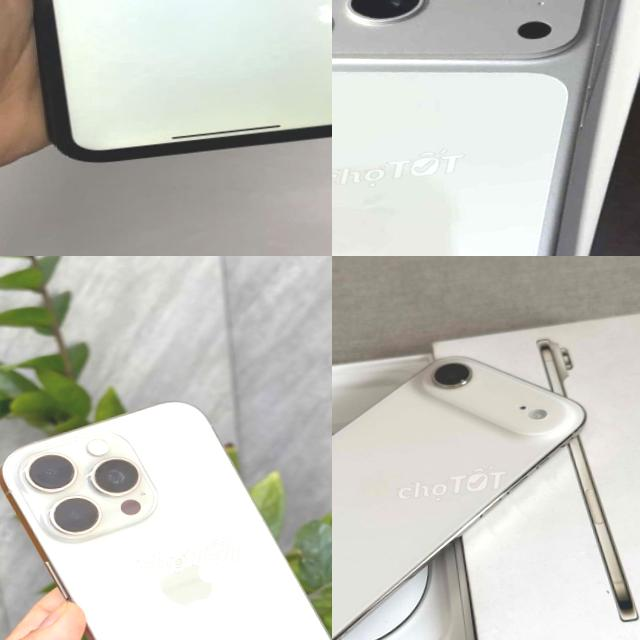gen_16: (0, 379, 332, 640)
gen_17: (332, 326, 609, 640), (332, 0, 640, 256)
gen_x_xs: (0, 0, 332, 174)
